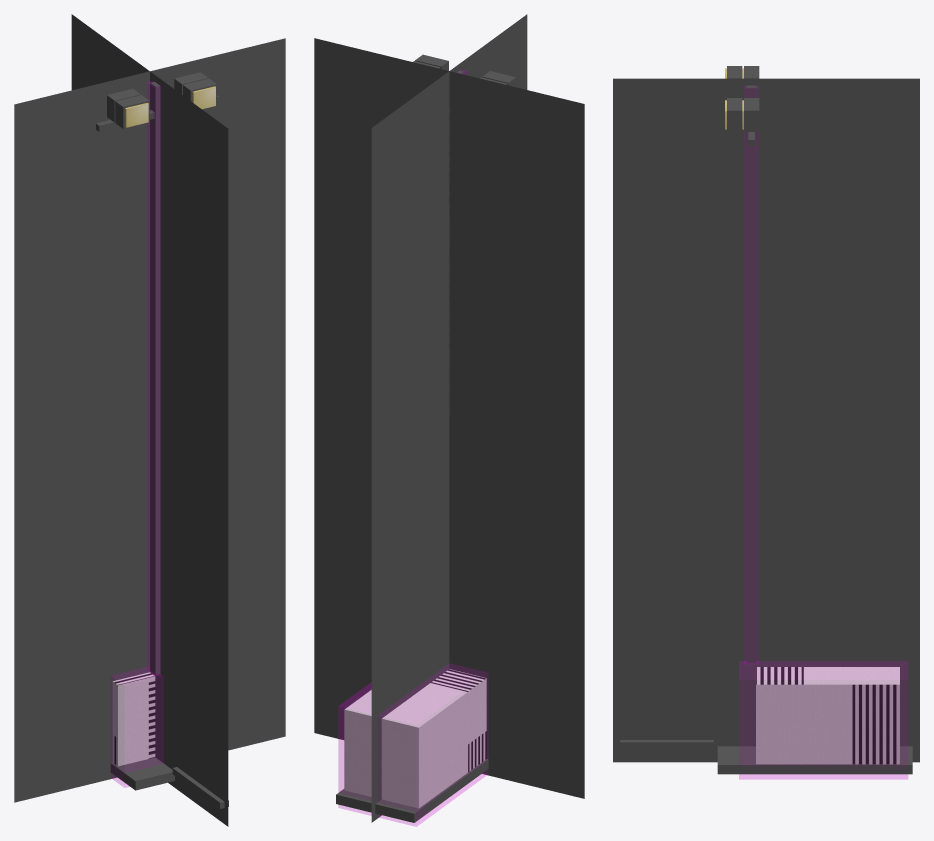
The model's file is lighttower_blank_raised.dae.
3 renders of one model, left to right at view 1: azimuth 30°, elevation 25°; view 2: azimuth 150°, elevation 25°; view 3: azimuth 270°, elevation 25°, orthographic. The views are drawn at different scales.
Parts seen in each view (by area): view 1: lighttower_blank_raised_a50, lighttower_blank_raised_a800, Colmesh_mast-1, Colmesh_body-1, lighttower_blank_raised_a200; view 2: lighttower_blank_raised_a50, Colmesh_body-1, lighttower_blank_raised_a800, lighttower_blank_raised_a200; view 3: lighttower_blank_raised_a50, lighttower_blank_raised_a800, Colmesh_body-1, lighttower_blank_raised_a200, Colmesh_mast-1.
Boxes of the visible parts, x1=… form: lighttower_blank_raised_a50: x1=14, y1=14, x2=285, y2=826; lighttower_blank_raised_a800: x1=96, y1=72, x2=228, y2=808; Colmesh_mast-1: x1=147, y1=81, x2=160, y2=675; Colmesh_body-1: x1=111, y1=668, x2=163, y2=787; lighttower_blank_raised_a200: x1=107, y1=76, x2=216, y2=765; lighttower_blank_raised_a50: x1=314, y1=14, x2=584, y2=822; Colmesh_body-1: x1=338, y1=664, x2=487, y2=826; lighttower_blank_raised_a800: x1=336, y1=54, x2=515, y2=822; lighttower_blank_raised_a200: x1=344, y1=55, x2=515, y2=808; lighttower_blank_raised_a50: x1=613, y1=78, x2=919, y2=762; lighttower_blank_raised_a800: x1=620, y1=66, x2=912, y2=774; Colmesh_body-1: x1=739, y1=661, x2=907, y2=779; lighttower_blank_raised_a200: x1=727, y1=66, x2=899, y2=764; Colmesh_mast-1: x1=744, y1=86, x2=758, y2=663.
Bounding box in the file's own units: 3.62 × 3.62 × 8.9.
Materials: 4 (2 with a texture image).
